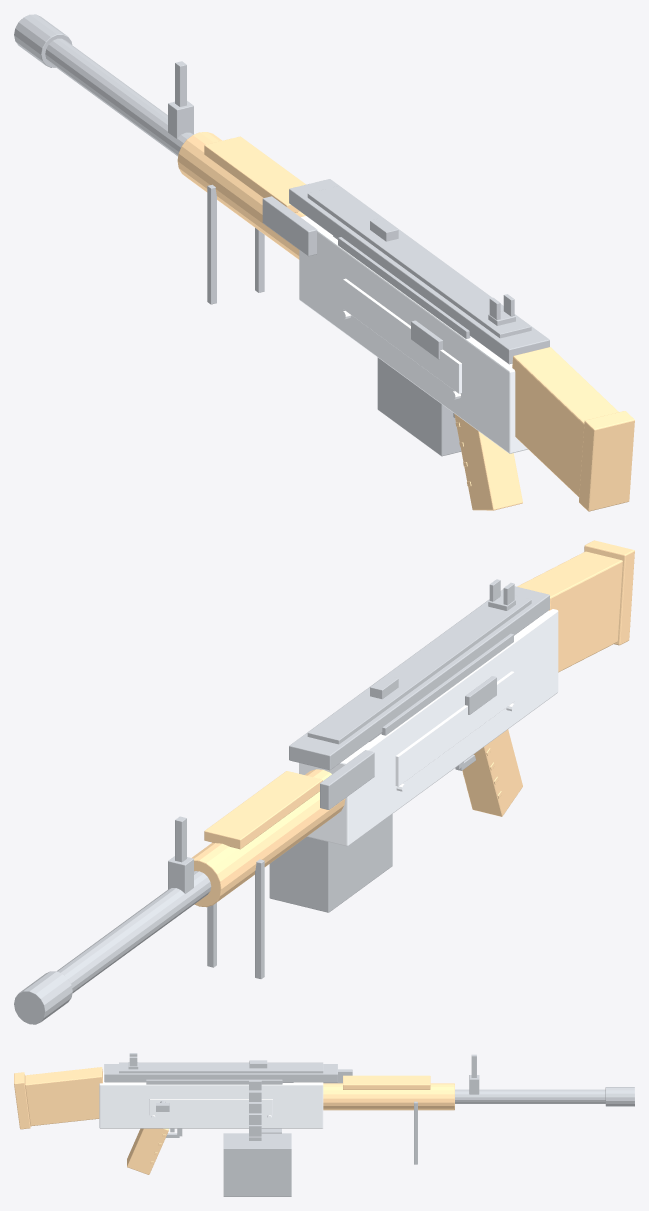
File: pkm.glb
3 renders of one model, top to bottom at view 1: azimuth 30°, elevation 25°; view 2: azimuth 150°, elevation 25°; view 3: azimuth 270°, elevation 25°, orthographic. The views are drawn at different scales.
Visible parts, largest first — view 1: Receiver, FeedCover, StockBody, StockBodyPlate, Barrel, mag, Grip, Handguard, ReceiverRibL, HandguardTop, StockIrons, LeftCarryHandle (+4 smaller); view 2: Receiver, FeedCover, mag, StockBody, Handguard, Barrel, HandguardTop, ReceiverRibL, Grip, FlashHider, StockIrons, LeftCarryHandle (+4 smaller); view 3: Receiver, mag, FeedCover, StockBody, Handguard, Barrel, ReceiverRibR, HandguardTop, Grip, BeltTail, FeedTray, StockBodyPlate (+3 smaller).
Part boxes in pixels (x1,y1,x2,y2): Receiver: (299,216,527,453); FeedCover: (289,179,549,364); StockBody: (512,347,618,497); StockBodyPlate: (579,411,634,511); Barrel: (45,38,193,156); mag: (377,357,461,456); Grip: (454,413,522,510); Handguard: (177,132,305,259); ReceiverRibL: (343,278,461,393); HandguardTop: (204,136,305,212); StockIrons: (168,61,515,325); LeftCarryHandle: (262,196,317,256); Receiver: (299,609,558,846); FeedCover: (289,586,549,770); mag: (269,814,392,912); StockBody: (517,551,622,672); Handguard: (192,769,345,907); Barrel: (57,871,211,992); HandguardTop: (204,771,322,849); ReceiverRibL: (395,671,514,786); Grip: (462,729,522,816); FlashHider: (14,971,72,1024); StockIrons: (168,579,515,893); LeftCarryHandle: (320,750,374,809); Receiver: (99,1072,323,1128); mag: (223,1128,291,1196); FeedCover: (104,1062,337,1082); StockBody: (25,1067,102,1126); Handguard: (323,1083,454,1110); Barrel: (455,1089,605,1103); ReceiverRibR: (149,1099,272,1115); HandguardTop: (343,1075,430,1089); Grip: (127,1128,168,1174); BeltTail: (249,1079,261,1140); FeedTray: (146,1079,282,1084); StockBodyPlate: (14,1072,30,1129).
Size of the model in its own units: 0.1475 by 0.272 by 1.28.
